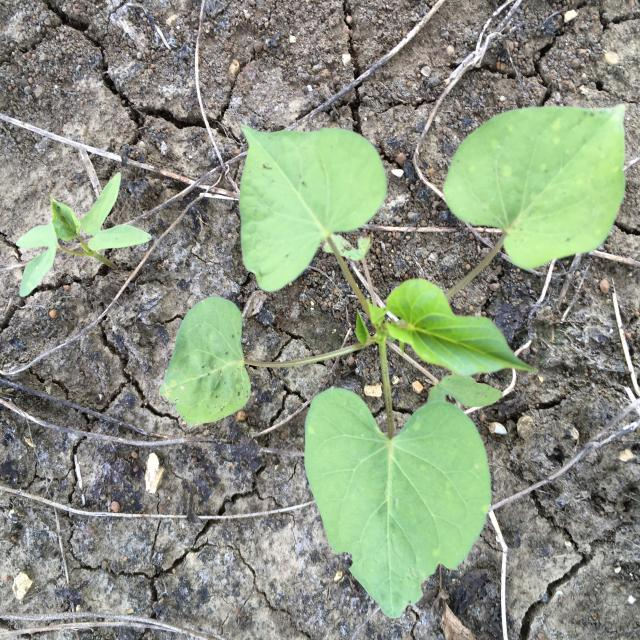MorningGlory: (159, 103, 626, 620), (16, 172, 152, 297)
